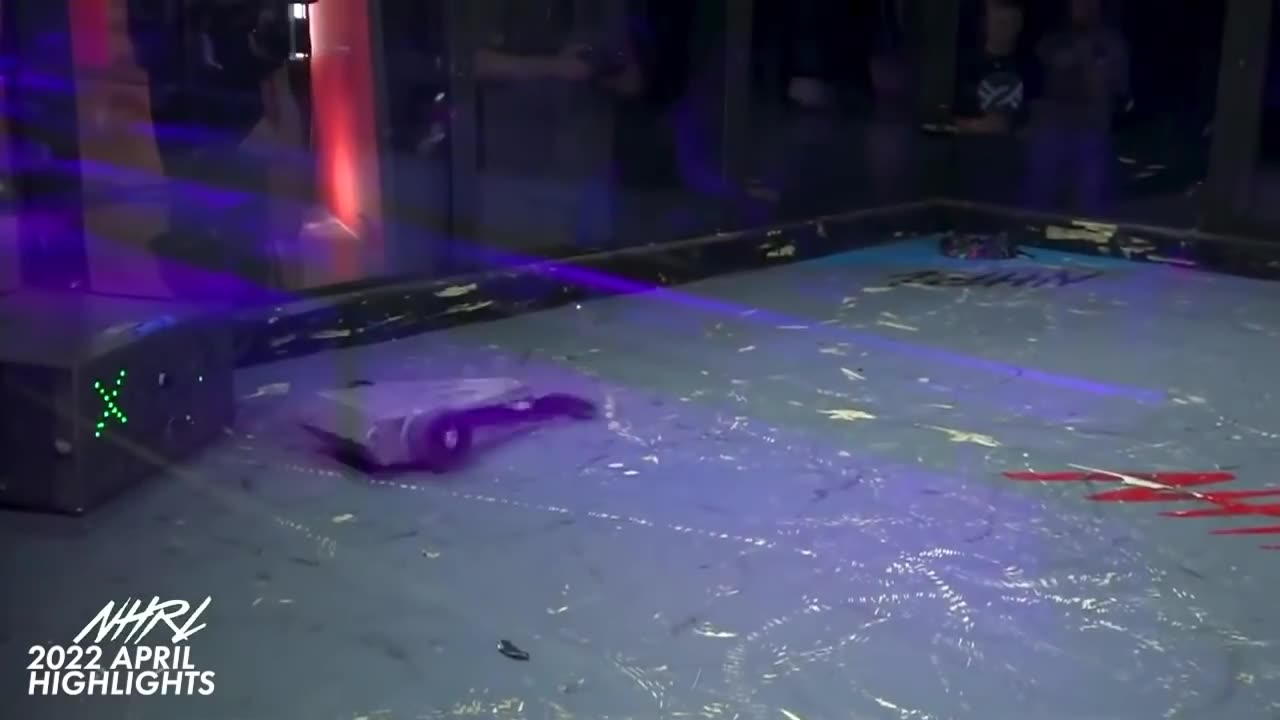combatbot: (302, 361, 593, 476), (939, 230, 1015, 260)
housebot: (0, 293, 237, 516)
